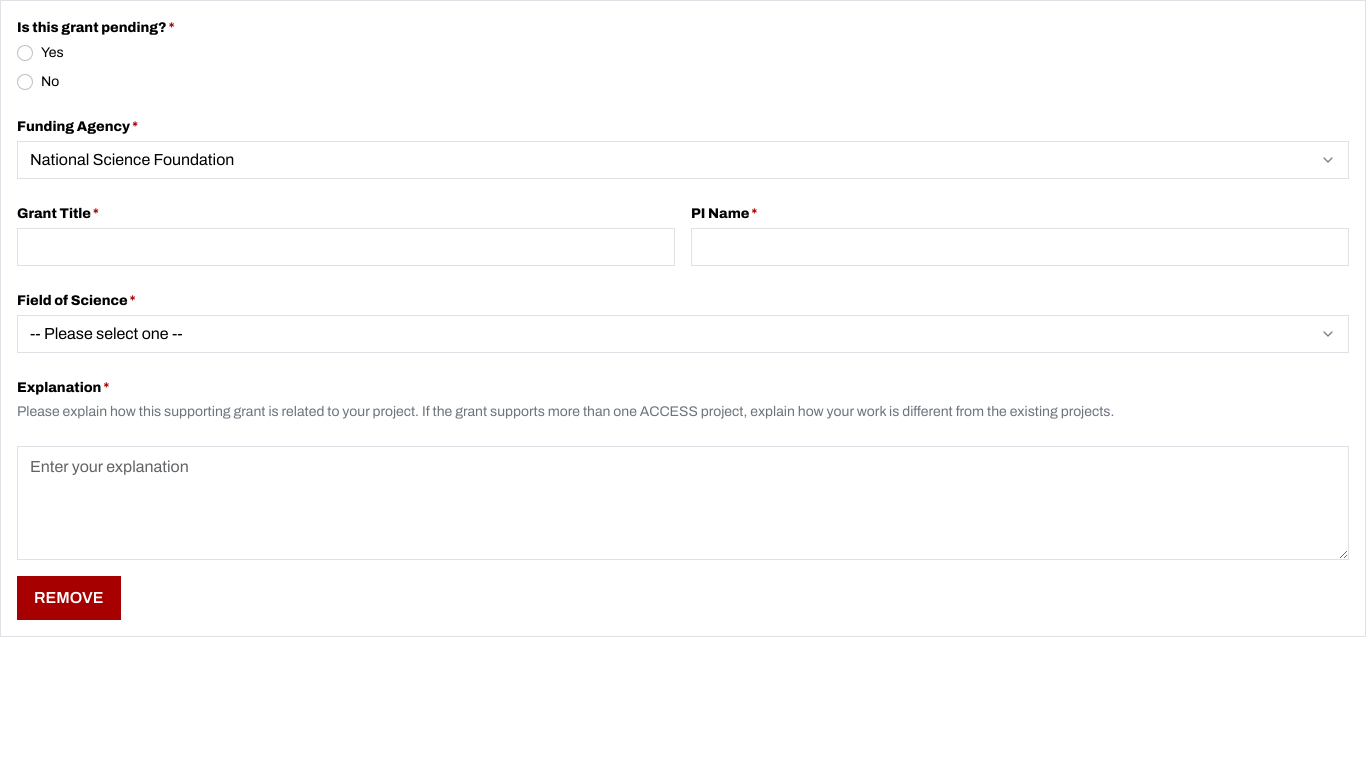
GrantFields › hides the award-detail fields again if the answer is switched back to pending
Click the radio button named "No" next to "No" at (25,82), box [17,74,33,90]
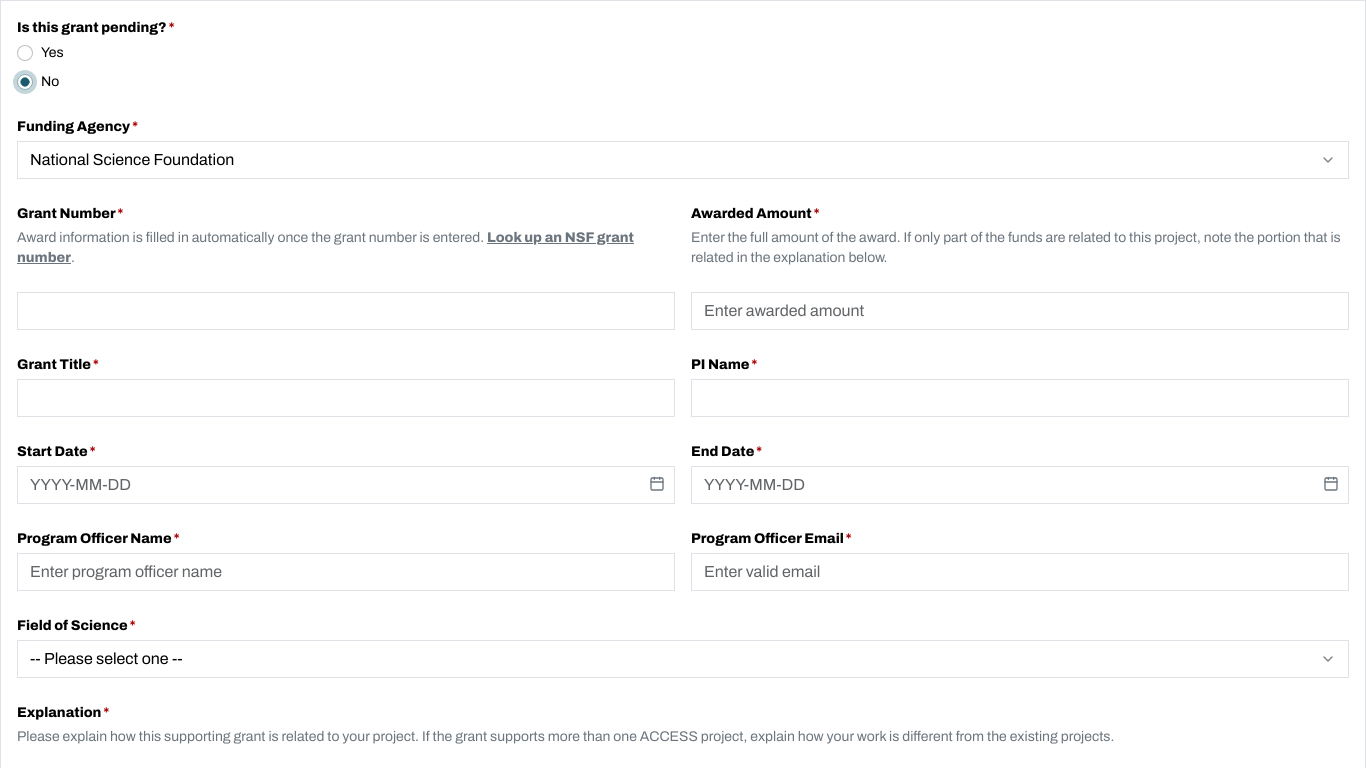
Expected: the label "Grant Number*" is shown, [17,206,123,221]
Click the radio button named "Yes" next to "Yes" at (25,52), box [17,44,33,60]
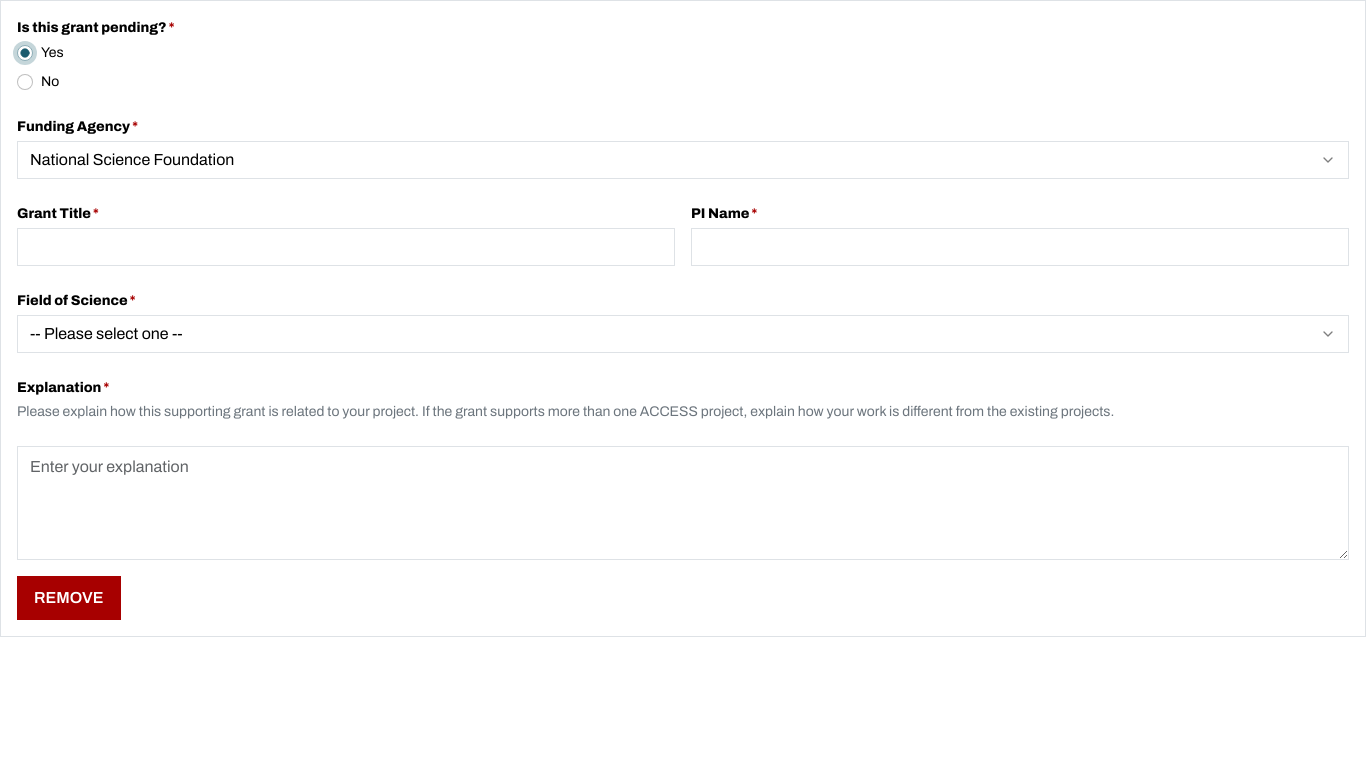
Expected: the text "Grant Number*" is gone
